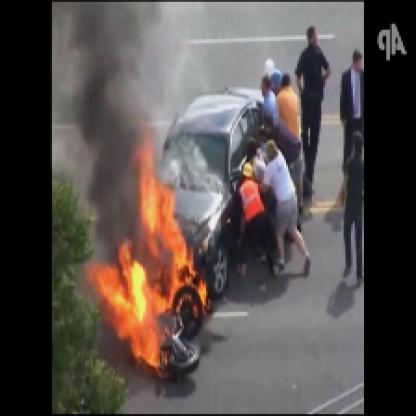Fire: (93, 130, 206, 379)
Smoke: (65, 2, 145, 232)
